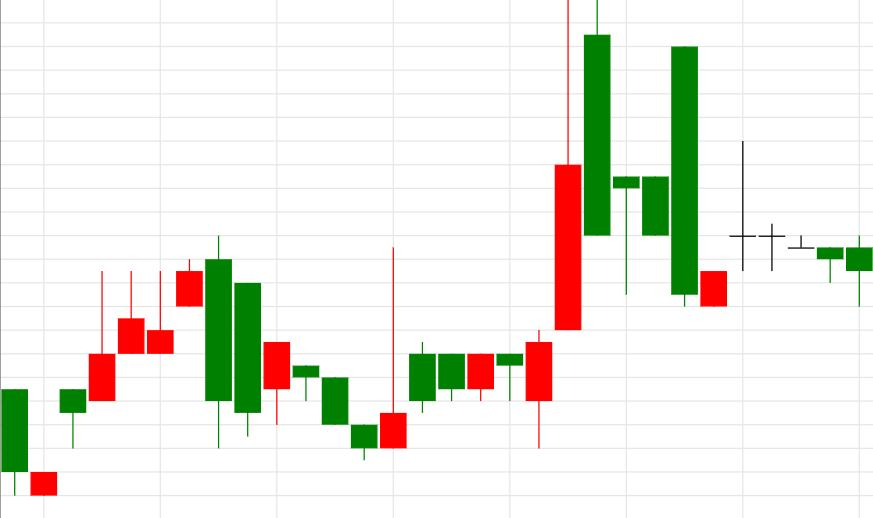inverse_hammer_rise: (205, 235, 407, 460)
